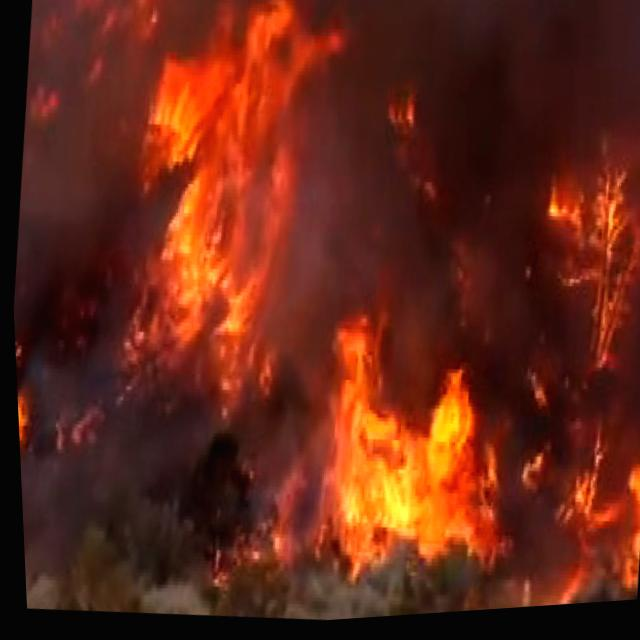fire: (256, 34, 521, 582), (45, 0, 331, 505), (445, 132, 640, 617), (15, 0, 231, 175)
